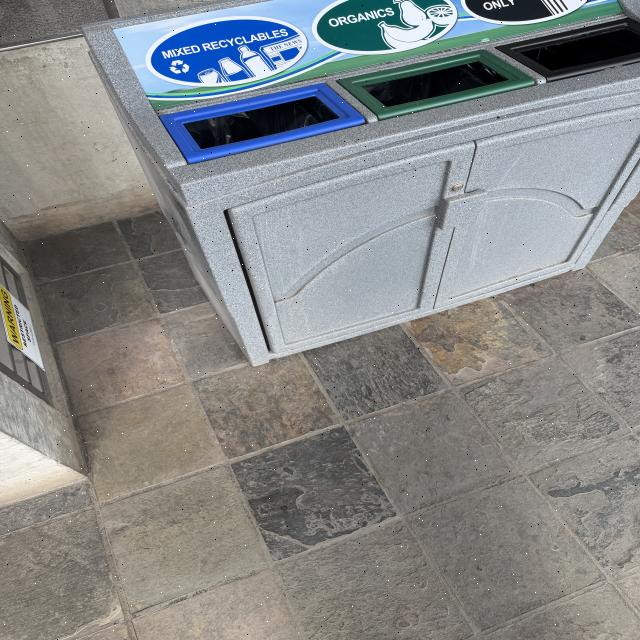Dustbin: (79, 0, 640, 369)
